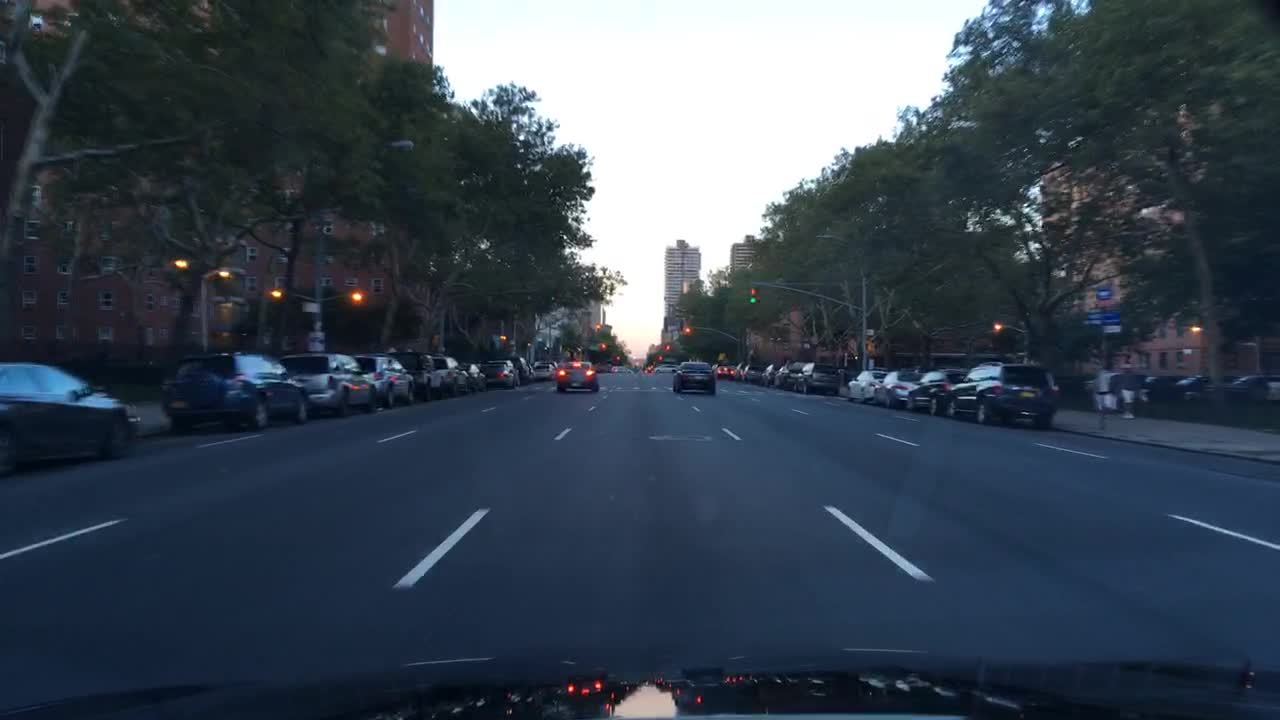car: (0, 358, 136, 477), (160, 351, 309, 432), (945, 358, 1058, 432), (280, 351, 379, 417), (352, 347, 413, 410), (903, 364, 968, 415), (391, 347, 447, 401), (1167, 371, 1238, 408), (872, 368, 923, 408), (1135, 371, 1188, 403), (670, 359, 717, 395), (432, 354, 472, 396), (555, 359, 599, 396), (793, 361, 840, 395), (1230, 371, 1279, 403), (843, 368, 886, 403), (482, 356, 518, 386), (504, 351, 535, 381), (771, 358, 801, 388), (459, 361, 487, 390), (737, 358, 766, 380), (759, 359, 779, 388), (530, 361, 558, 380), (717, 359, 735, 380), (651, 361, 680, 374), (732, 358, 746, 381), (540, 354, 560, 368)
traffic light: (746, 285, 759, 305), (681, 322, 692, 337)
traffic sign: (1102, 309, 1122, 334), (1095, 280, 1113, 307), (1080, 307, 1103, 324), (300, 299, 320, 314)
